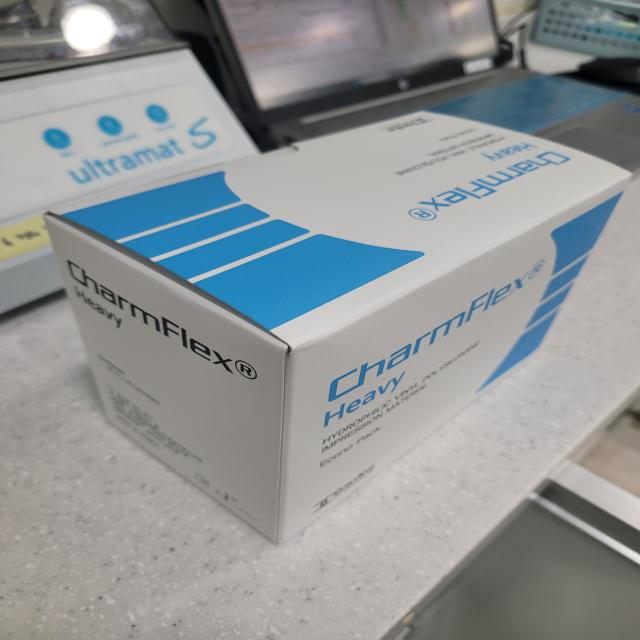impression: (37, 102, 640, 559)
